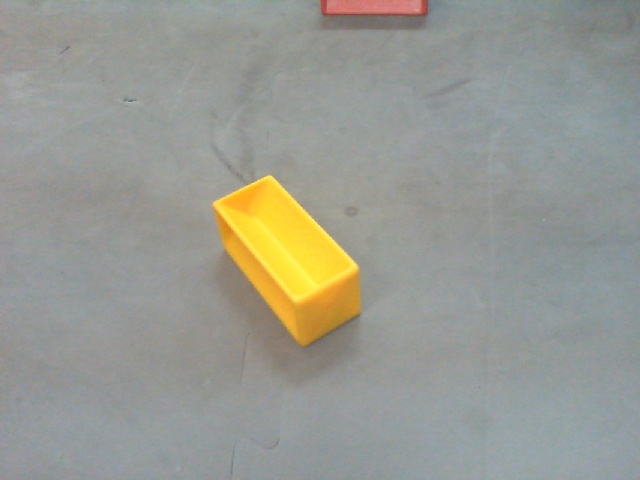RedSample: (318, 1, 430, 18)
YellowSample: (211, 171, 363, 349)
